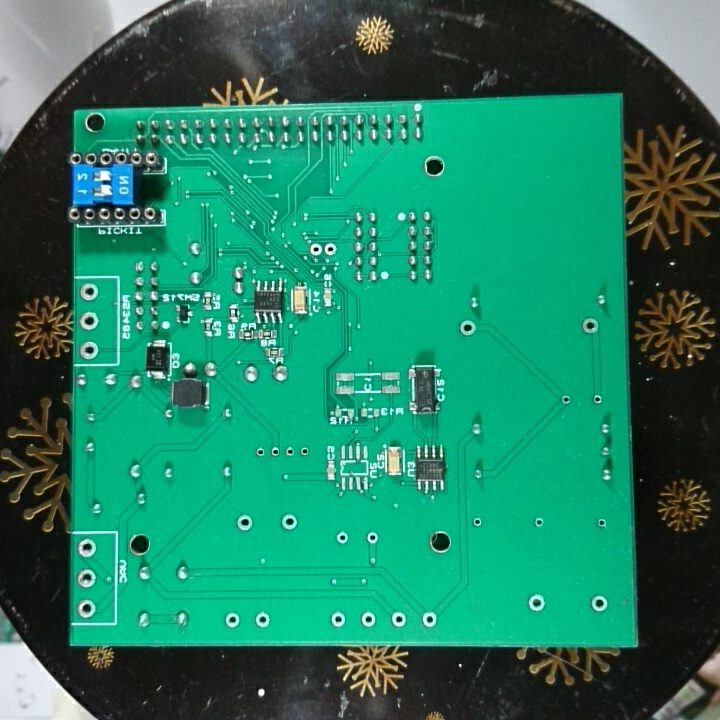F: (77, 308, 101, 332), (525, 591, 548, 615), (74, 597, 98, 620), (277, 512, 301, 535), (77, 280, 101, 303), (77, 338, 102, 360), (234, 512, 257, 535), (579, 315, 602, 337), (76, 536, 97, 560), (75, 568, 98, 589), (457, 318, 478, 340), (588, 593, 609, 615), (388, 609, 409, 630), (358, 608, 379, 629), (253, 610, 272, 632), (328, 609, 348, 629), (222, 610, 241, 631), (420, 609, 439, 629), (364, 529, 382, 548), (322, 239, 337, 260), (307, 241, 323, 260), (333, 529, 350, 546), (297, 443, 311, 463), (469, 514, 485, 531), (253, 443, 269, 459), (559, 392, 574, 408), (268, 443, 282, 460), (283, 443, 297, 460), (591, 392, 605, 406), (594, 515, 608, 529), (533, 515, 545, 529)
